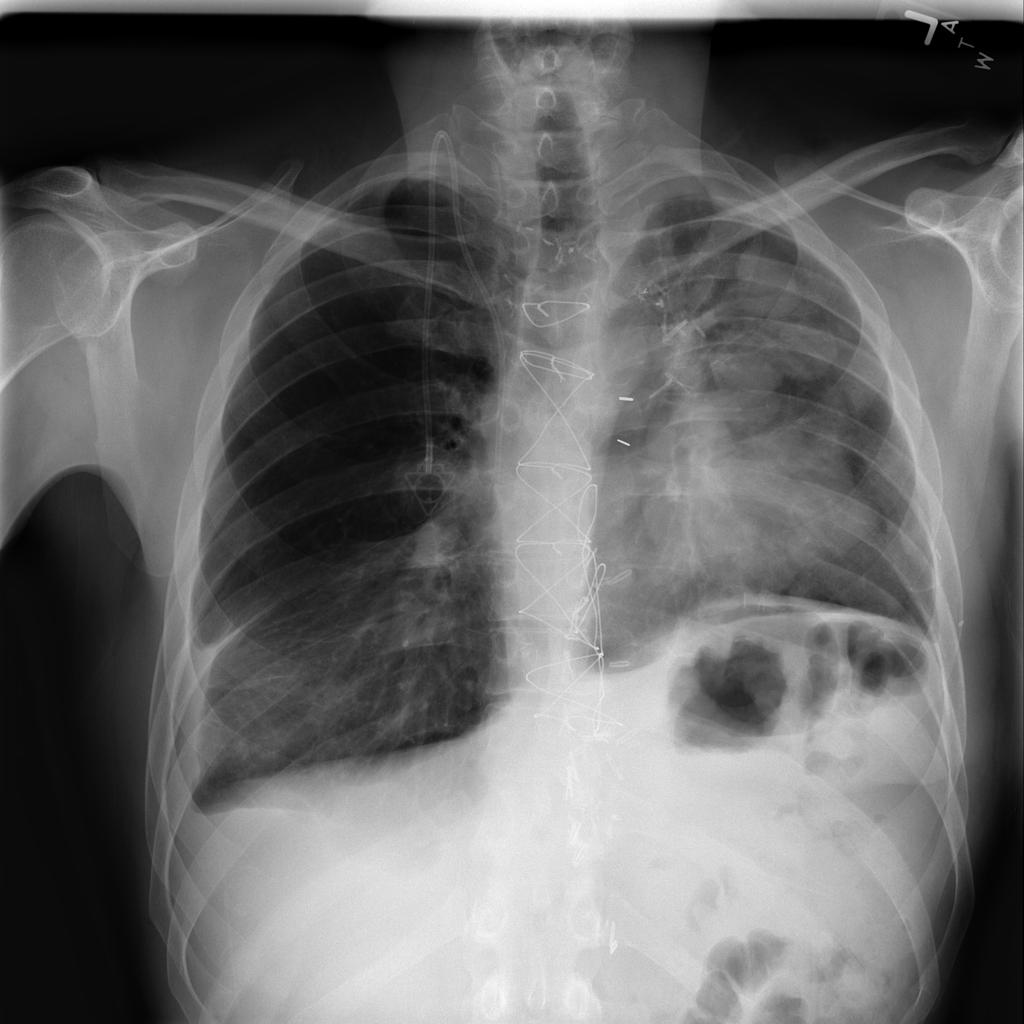nodule: (649, 393, 875, 573), (723, 242, 809, 321), (698, 341, 793, 412), (770, 312, 852, 385)
